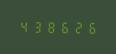eight: (44, 19, 56, 33)
four: (17, 19, 29, 33)
six: (57, 19, 69, 34), (83, 20, 95, 34)
three: (30, 19, 42, 33)
two: (70, 20, 82, 34)
